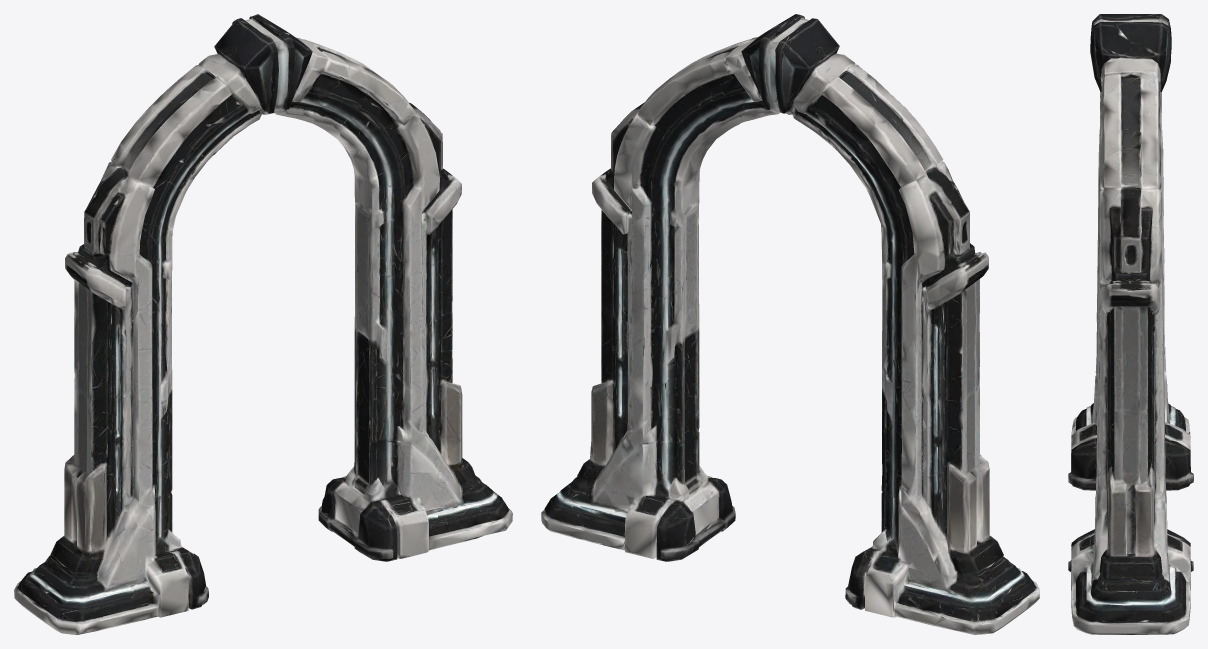
The model's file is prediction_portal.glb.
3 views of the same model, side by side, from view 1: azimuth 30°, elevation 25°; view 2: azimuth 150°, elevation 25°; view 3: azimuth 270°, elevation 25° (orthographic). The views are drawn at different scales.
Size of the model in its own units: 1.7 by 1.9 by 0.4241.
Materials: 1 (1 with a texture image).
